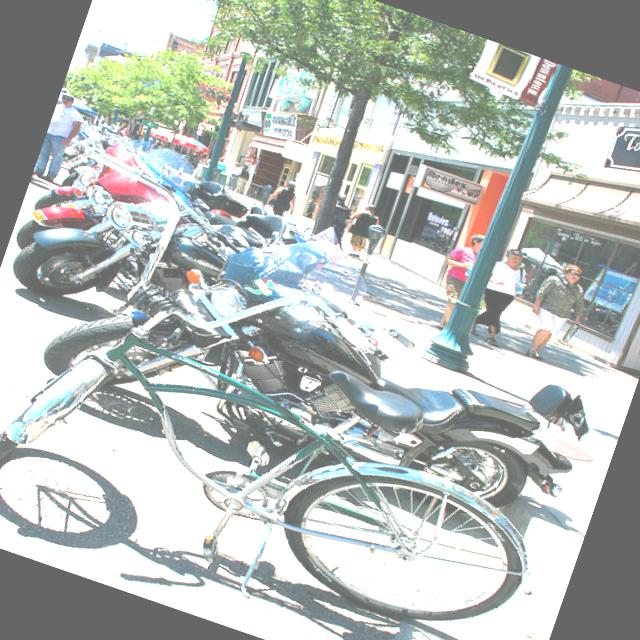Vehicle: (33, 164, 622, 559), (1, 125, 276, 358), (10, 118, 298, 332), (29, 166, 78, 221), (60, 118, 106, 174), (64, 147, 104, 183)
